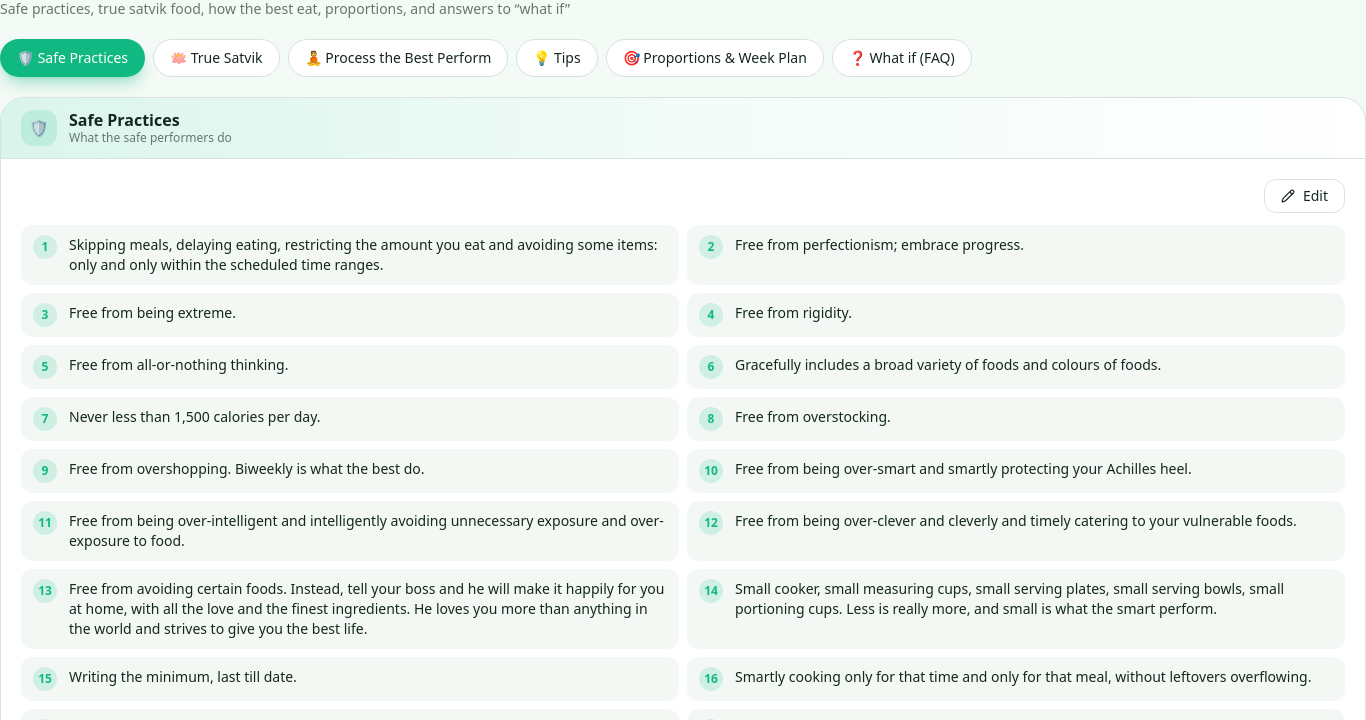
GuideView › opens the editor for a new question
Click the button "Edit".
click(1304, 196)  # box [1264, 179, 1345, 213]
(page scrolled)
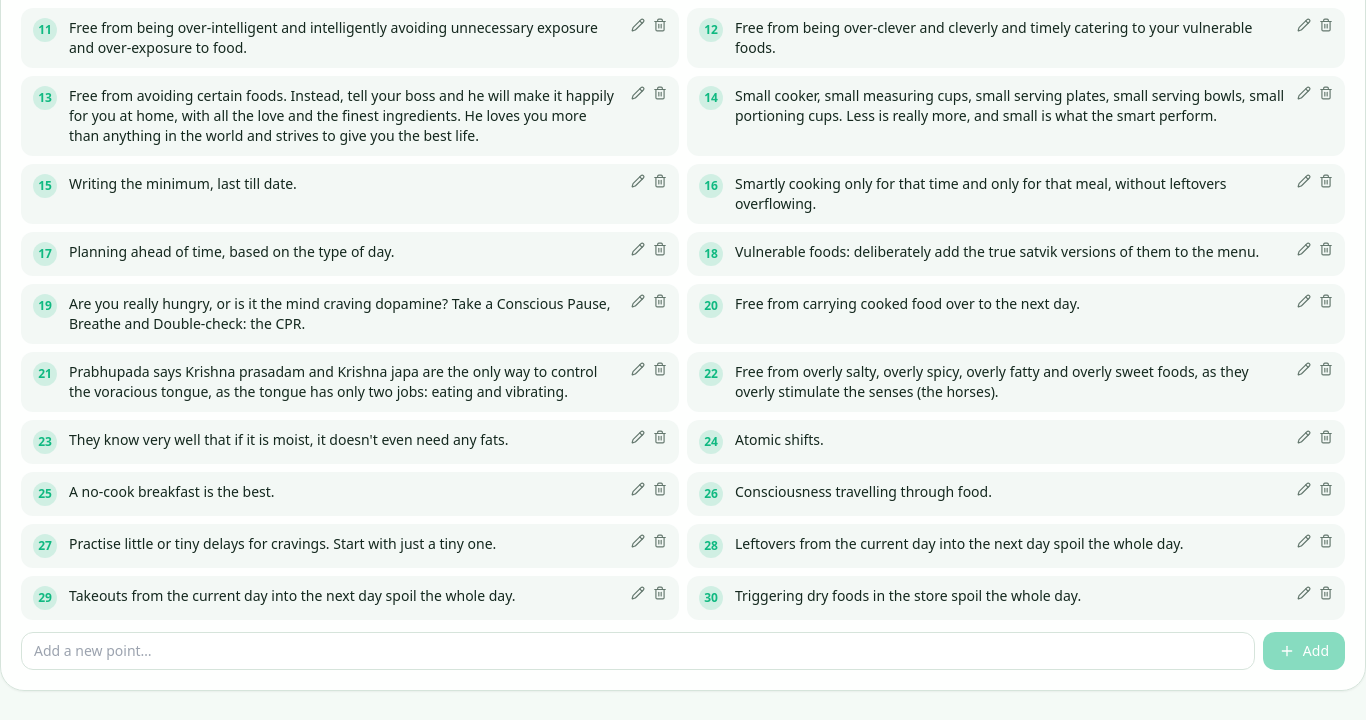
Expected: the field with placeholder "Add a new point…" is shown, [21, 632, 1255, 670]
